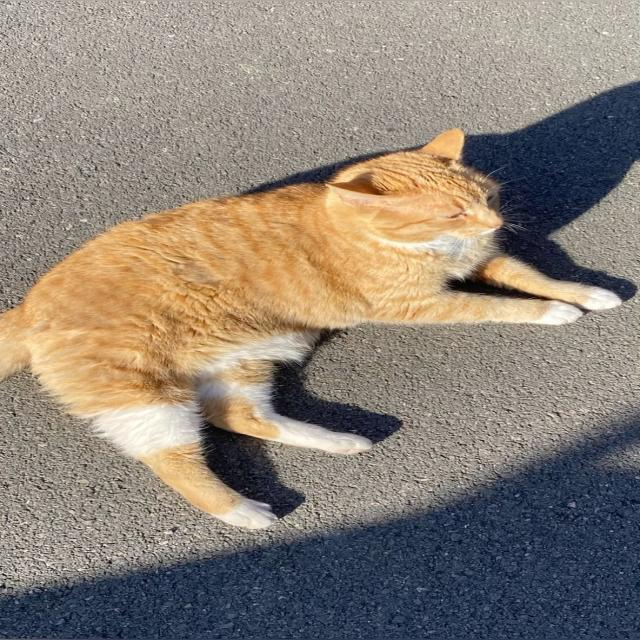sarman: (35, 94, 570, 623)
